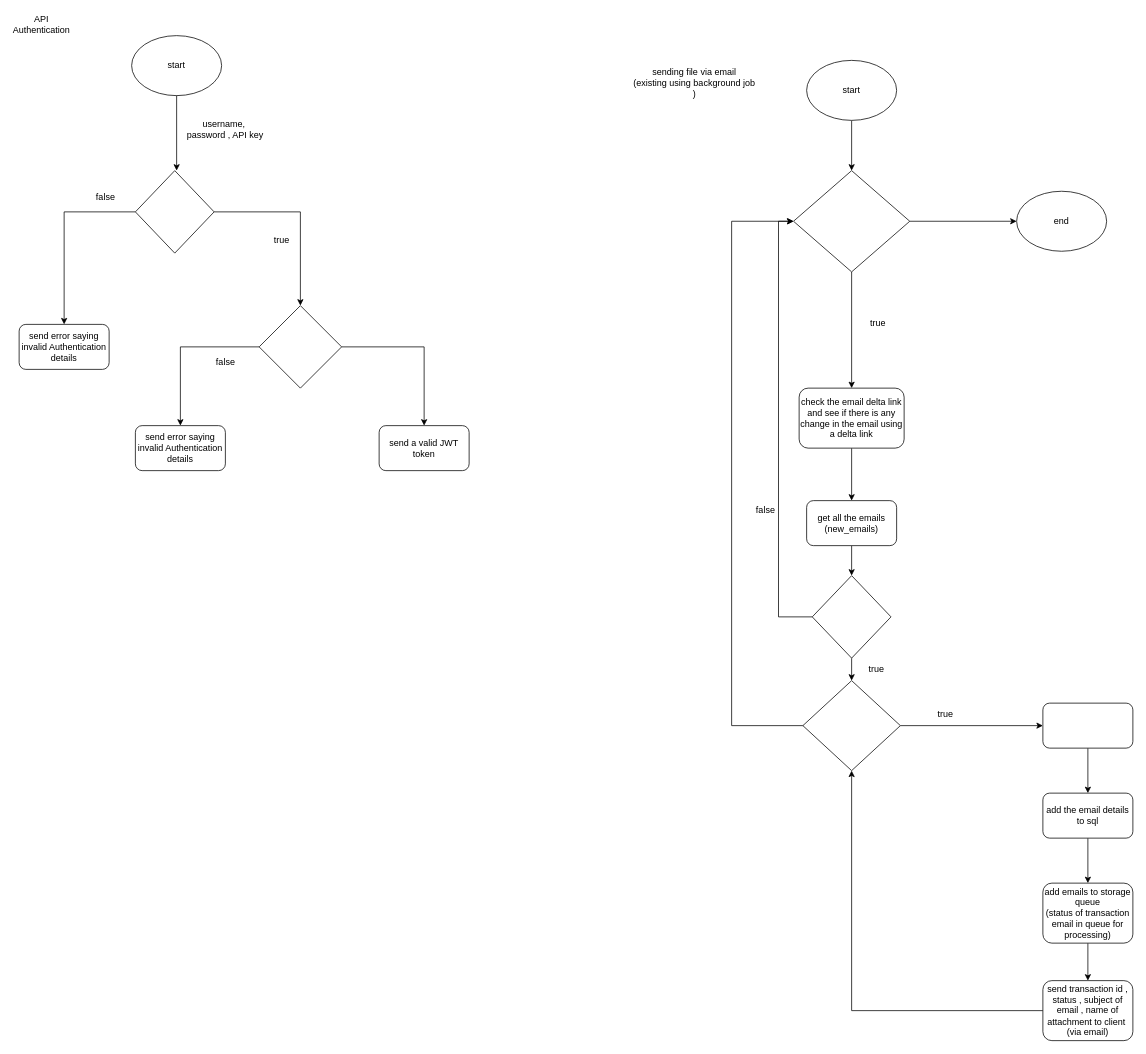
The diagram is 1146 pixels wide and 1054 high, and some of its shapes have lost their labels. The shapes that lost their labels are listed below. From the top down, each one's box as (x1, y1, x2, y2) in pixels, then its label:
(135, 170, 214, 253): check if the API key is a valid key
(793, 170, 910, 272): for y in client_emails_api
(258, 305, 342, 388): check if the username and password are linked to the API key
(812, 575, 891, 658): if (length(new_emails > 0))
(802, 680, 900, 771): for x in new_emails
(1042, 702, 1133, 748): create a transaction
